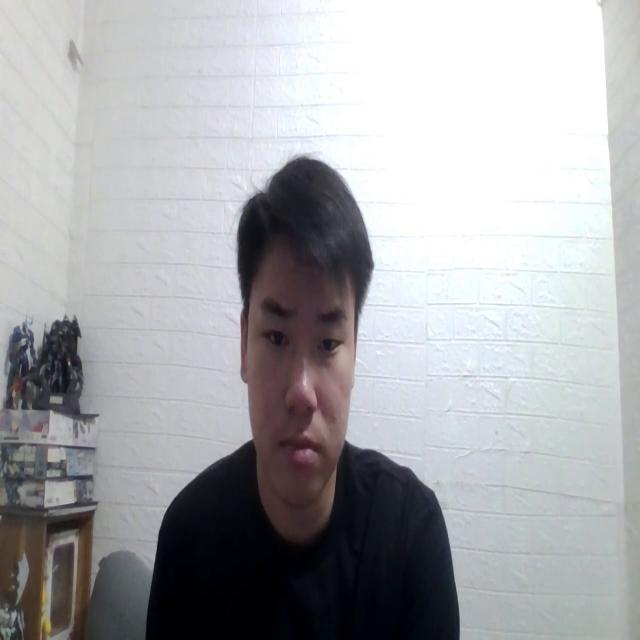student: (144, 146, 463, 640)
